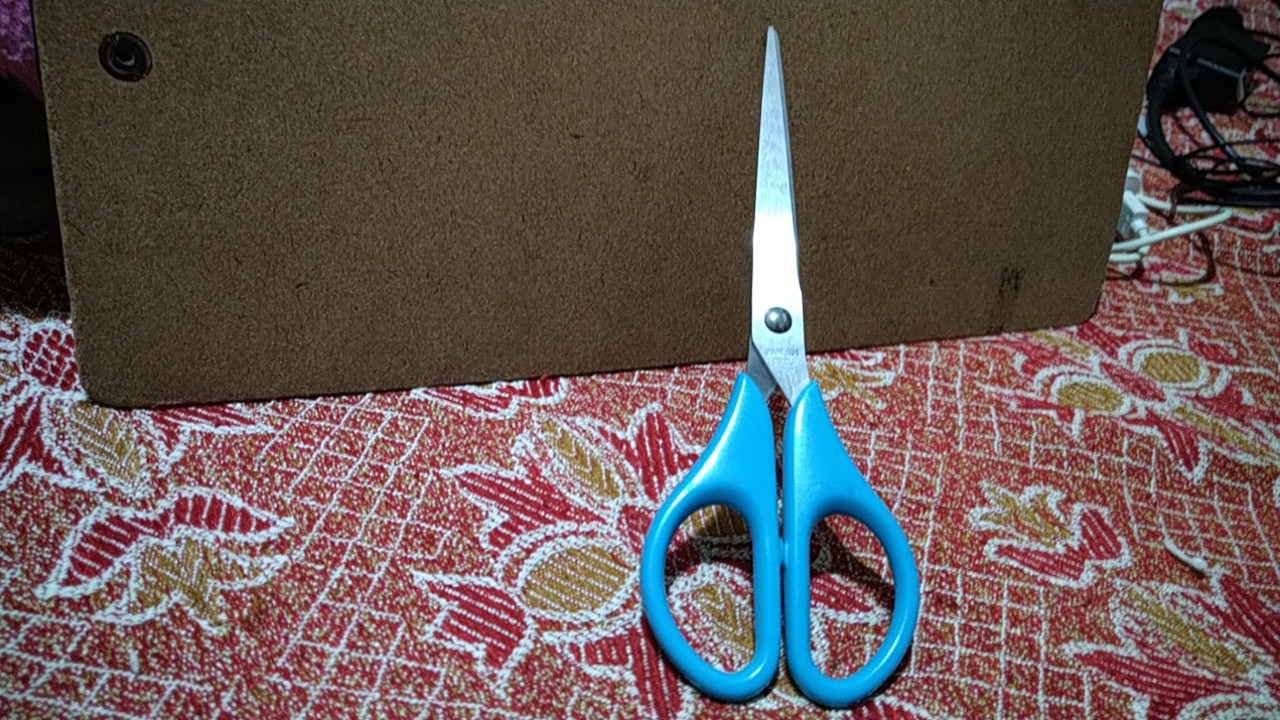scissor: (588, 14, 964, 720)
